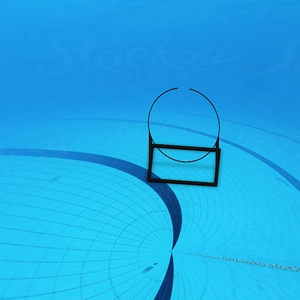circle: (143, 84, 222, 192)
